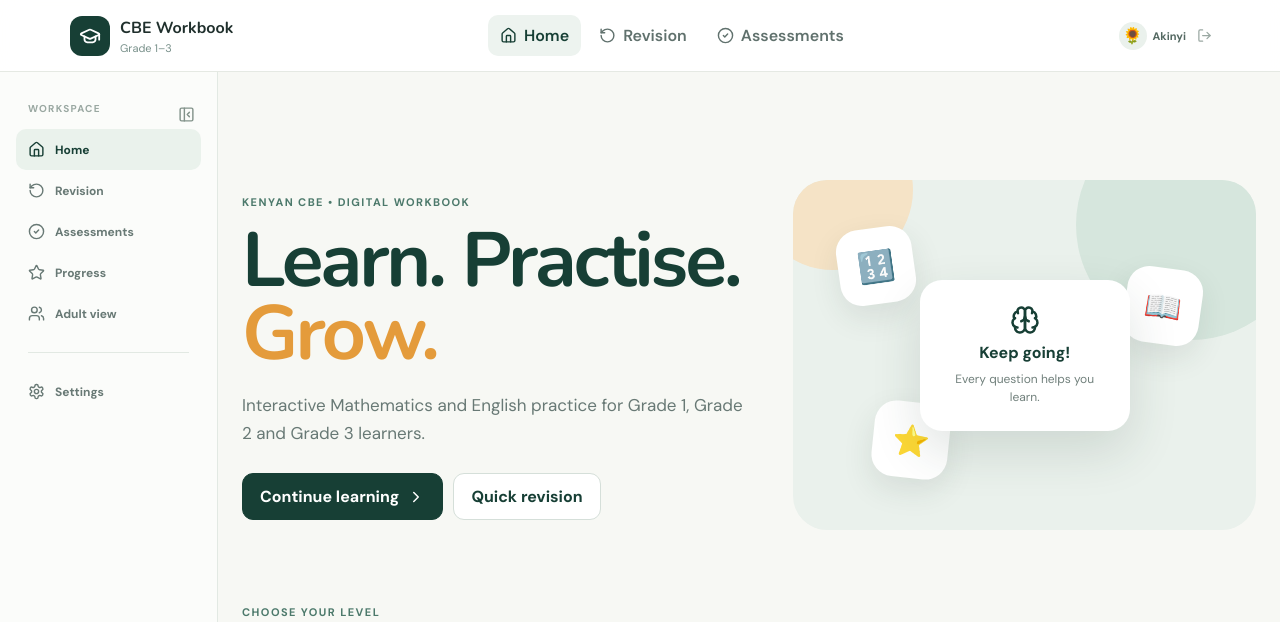
Test: workbook improvements › shows curriculum-authored lesson explanations and examples
Click the button "Continue learning" at (343, 496), box [242,473,443,520]
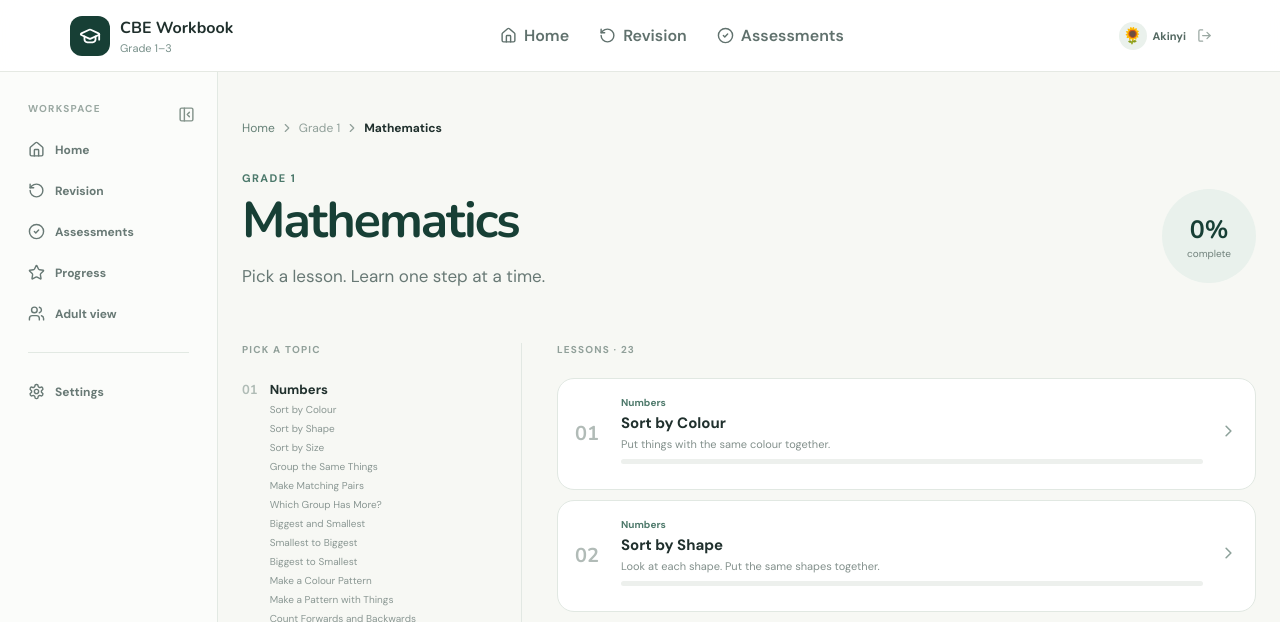
Click the 1st button with class "lesson-card" at (643, 402), box [557,378,1256,490]
(page scrolled)
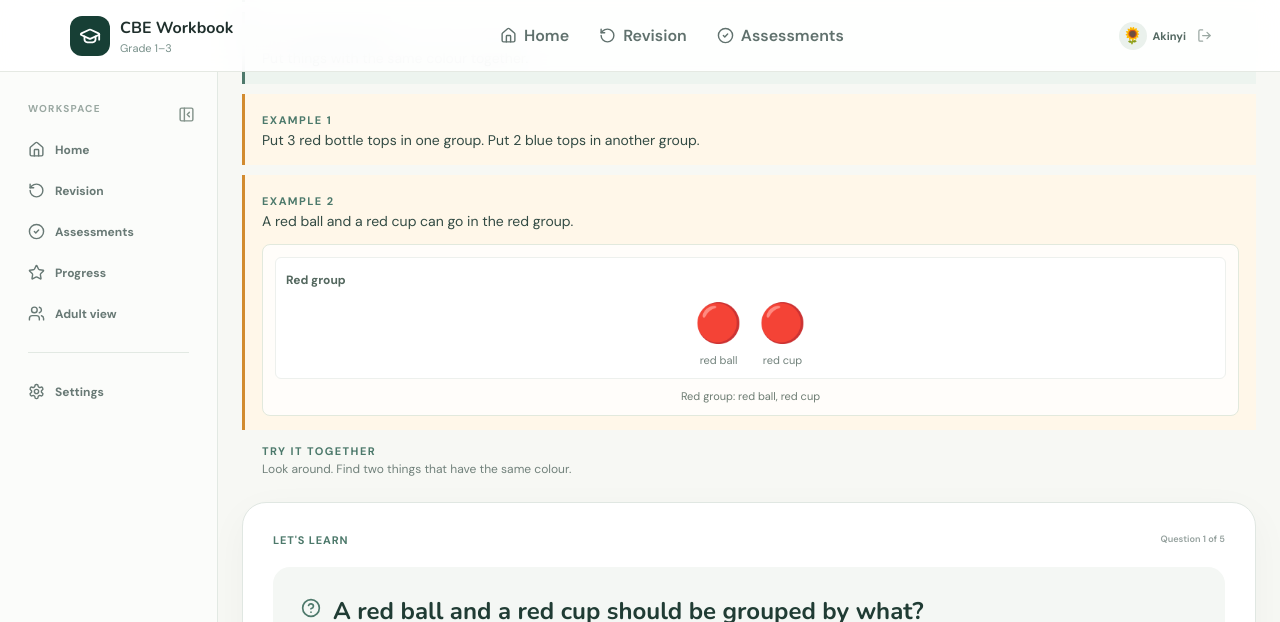
Check: the text "EXAMPLE 1" is shown, box [262,113,332,127]
Check: the text "TRY IT TOGETHER" is shown, box [262,444,376,458]
Check: the text "Put 3 red bottle tops in one group. Put 2 blue tops in another group." is shown, box [262,131,700,149]
